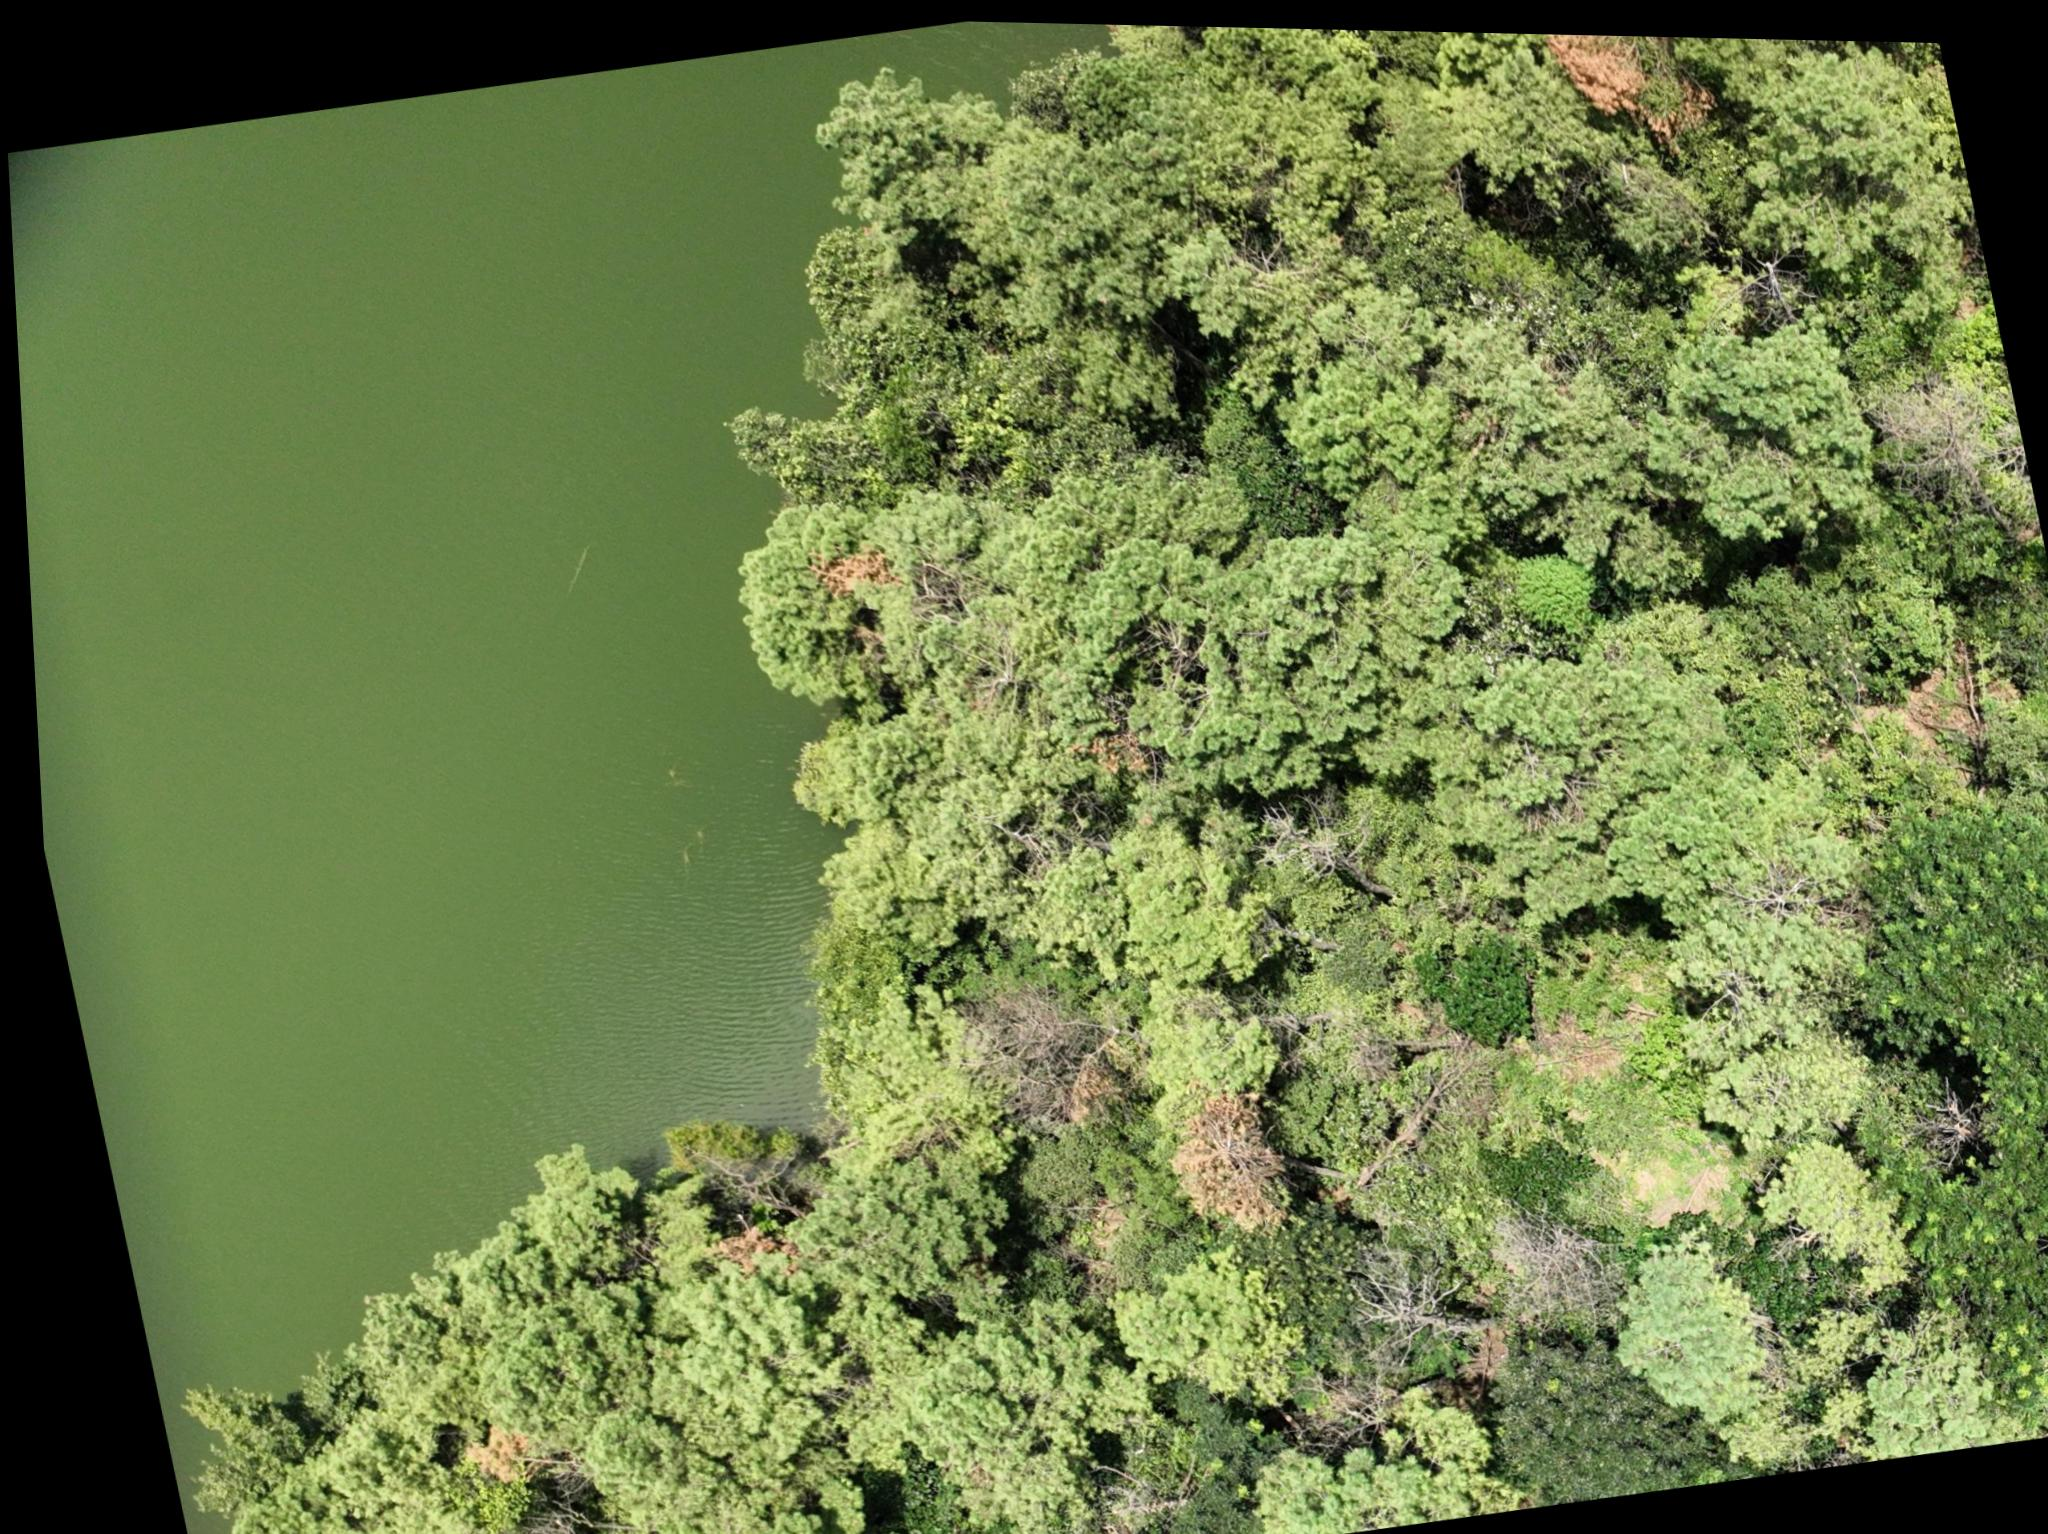dead: (951, 970, 1109, 1126), (1482, 1189, 1605, 1305), (1334, 1246, 1458, 1350)
heavy: (1147, 1081, 1283, 1246), (1544, 27, 1708, 145)
